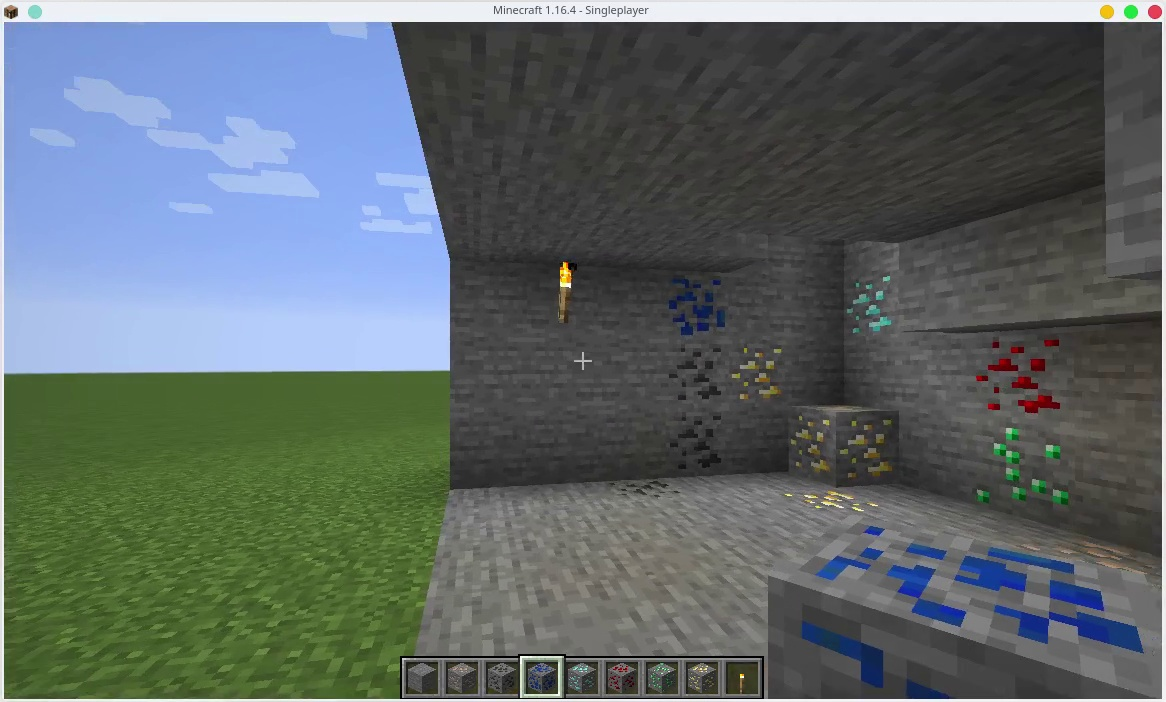gold: (790, 408, 893, 482), (724, 342, 783, 400), (783, 492, 890, 516), (684, 663, 718, 695)
